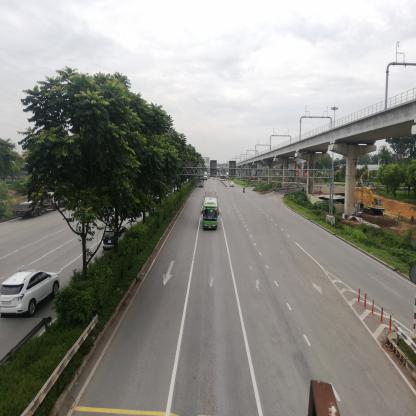bus: (204, 197, 220, 232)
car: (2, 266, 63, 319)
